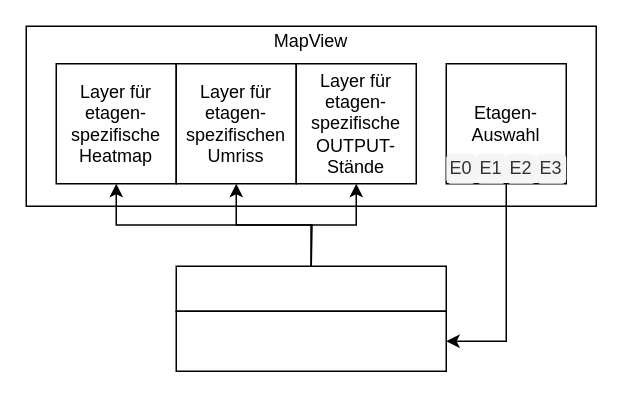
Image size: 623x398. Some labels were removed from this diagram. The centre of each missing label's shape, as x and y in pixels:
"@Published var selectedFloor: Floor?" goes at (310,340).
"MapViewEnvironment" goes at (310,288).
